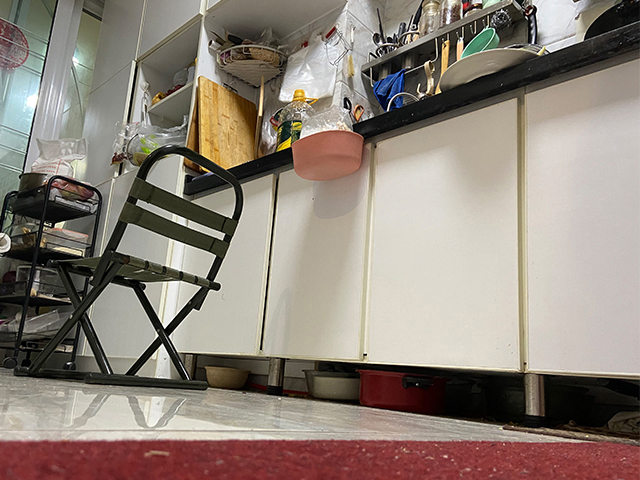cabinet: (170, 18, 640, 429), (93, 162, 204, 383)
carpet: (1, 438, 640, 480), (505, 422, 640, 447)
stool: (12, 142, 245, 391)
